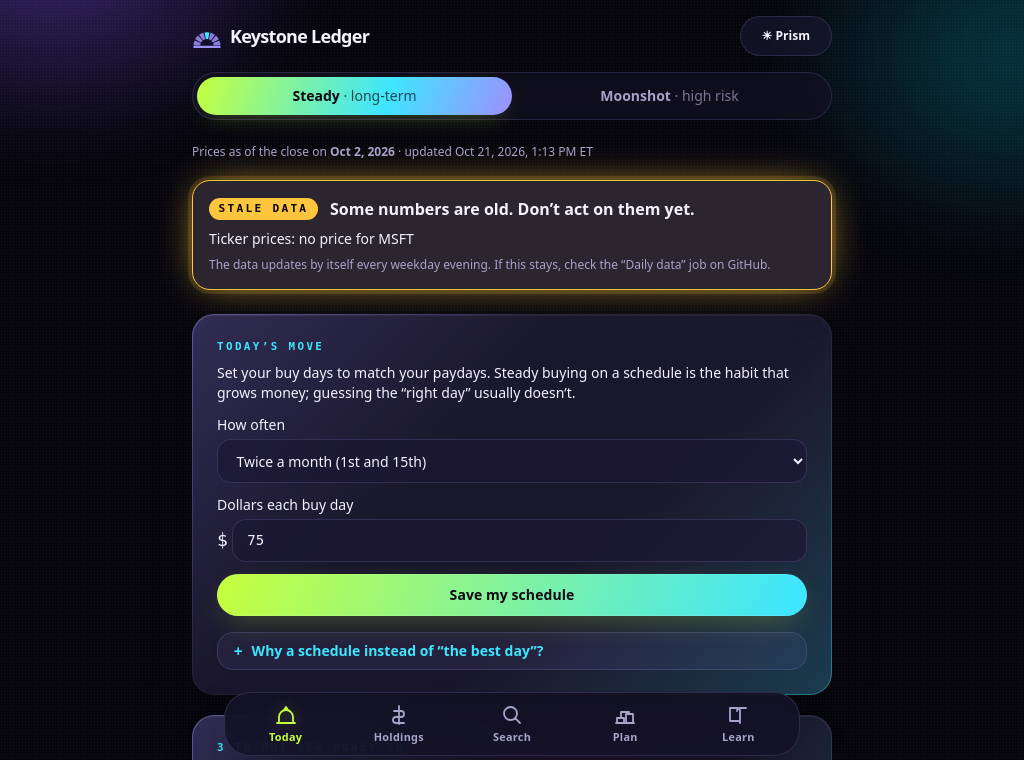
Test: iPhone app › Today’s move: set a schedule, see the buy-day split, log it, then a countdown
The image size is (1024, 760).
Replace the text in the field labelled "Dollars each buy day" with "100": (519, 540) [232,519,807,562]
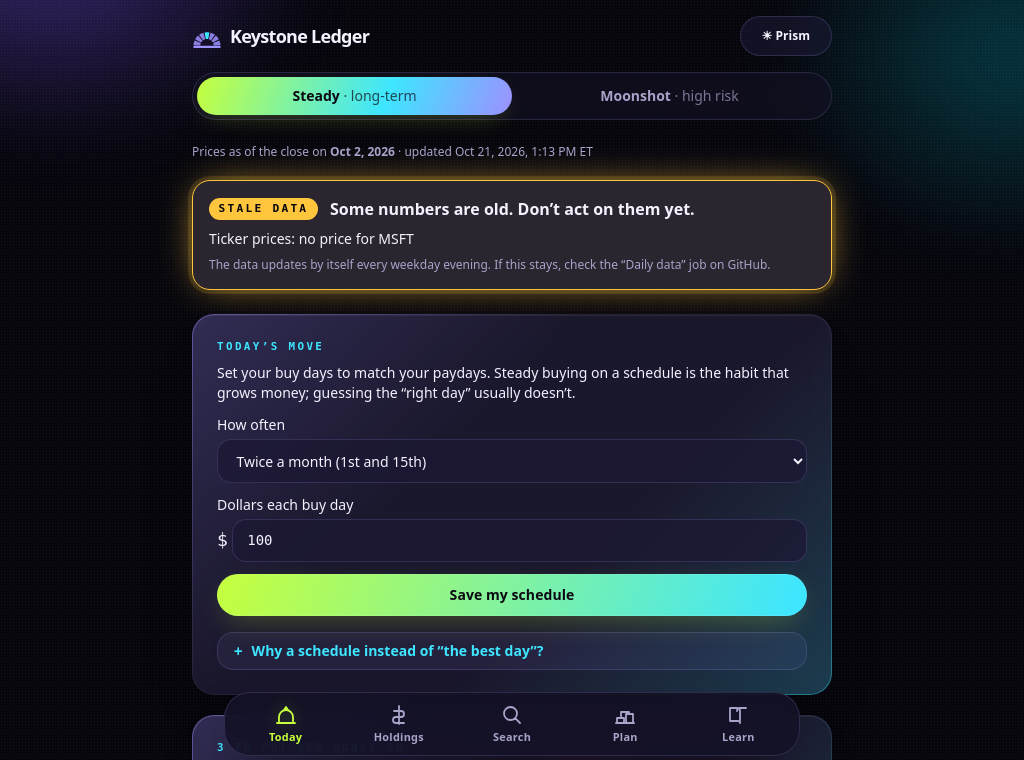
Click the button "Save my schedule": (512, 595) [217,574,807,616]
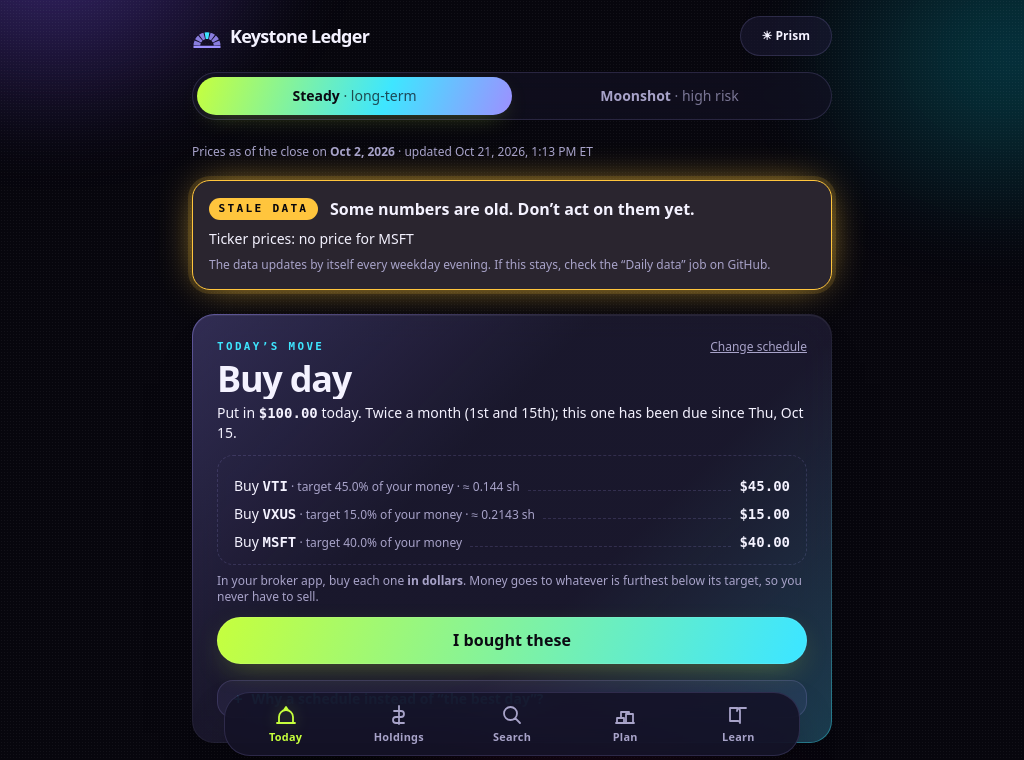
Expected: the text "Buy day" is shown, [217,359,807,399]
Now the text "$45.00" is shown, box [739,476,790,496]
Click the button "I bought these": (512, 640) [217,617,807,664]
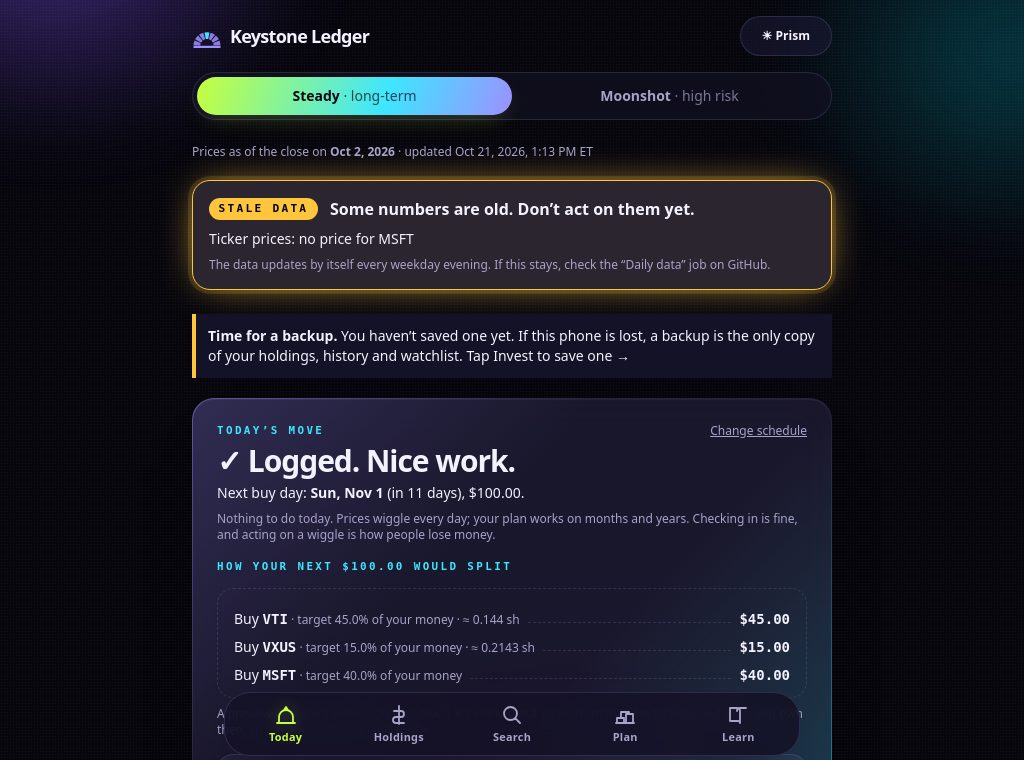
Now the text "✓ Logged. Nice work." is shown, box [217,440,515,481]
Now the text "Next buy day: Sun, Nov 1 (in 11 days), $100.00." is shown, box [217,483,524,502]
Now the text "How your next $100.00 would split" is shown, box [217,560,512,573]
